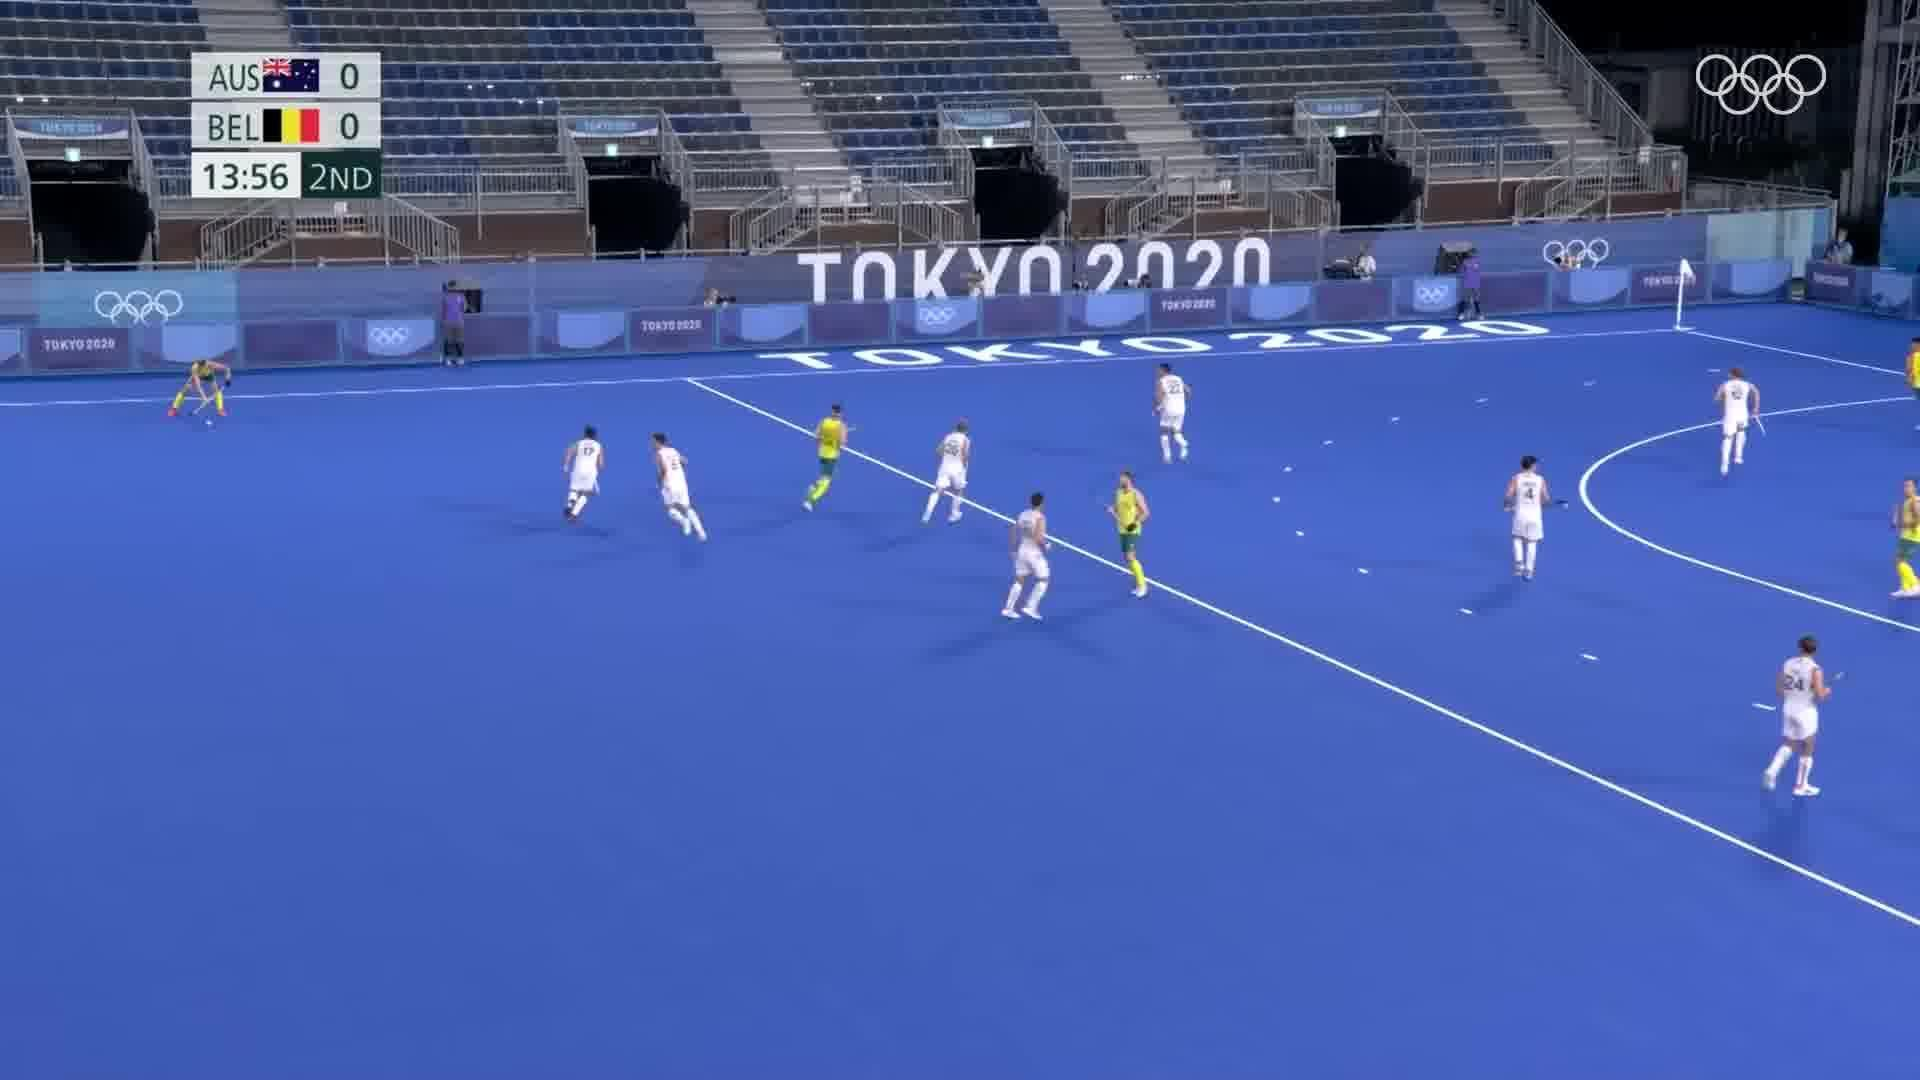ball: (201, 416, 218, 431)
